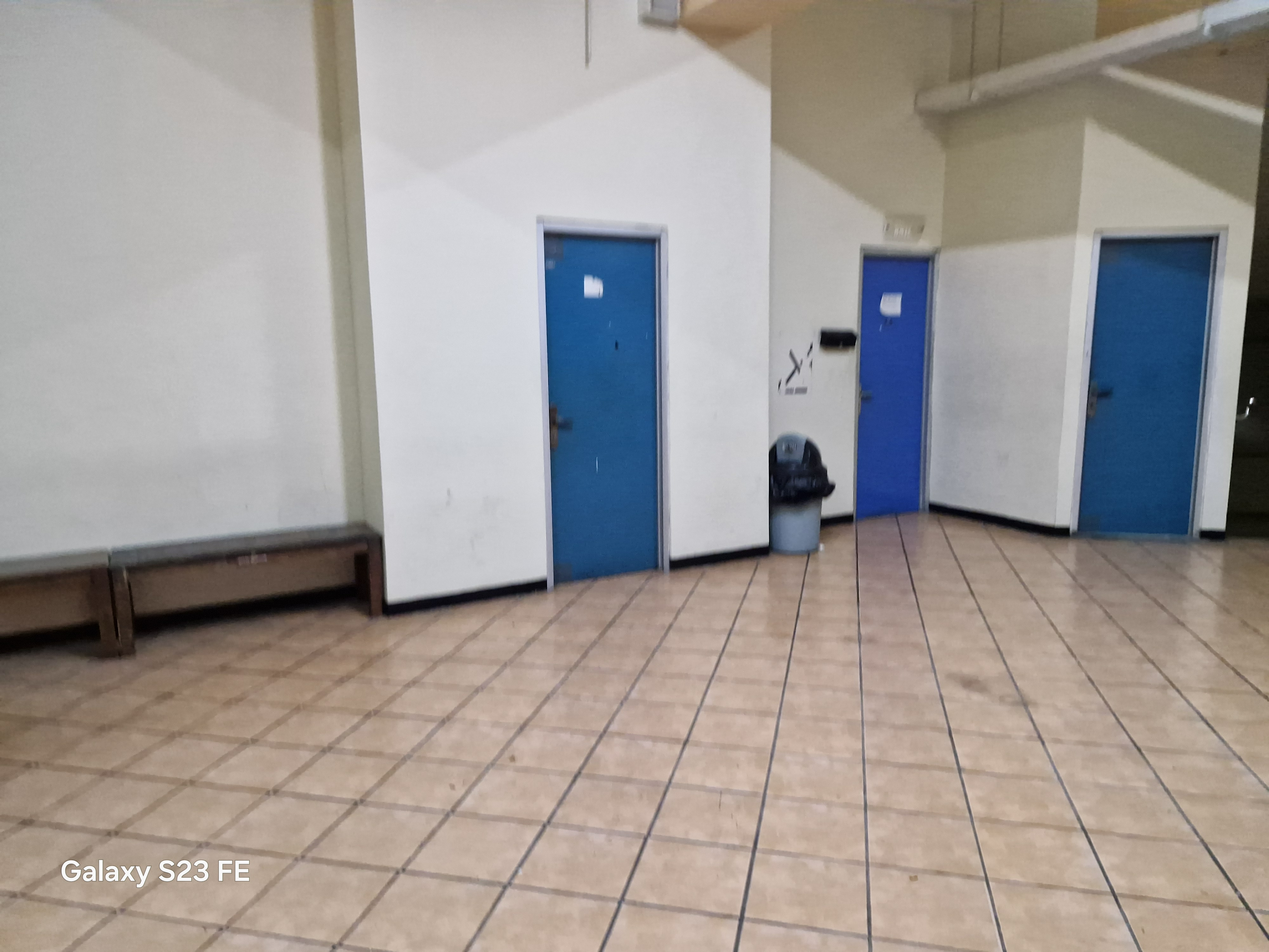ceiling-merged: (761, 0, 1268, 114)
door-stuff: (1078, 237, 1216, 536), (544, 232, 661, 583), (856, 255, 931, 519)
floor-other-merged: (0, 519, 1268, 951)
trash-bin: (769, 433, 834, 553)
wall-other-merged: (0, 0, 1268, 656)
